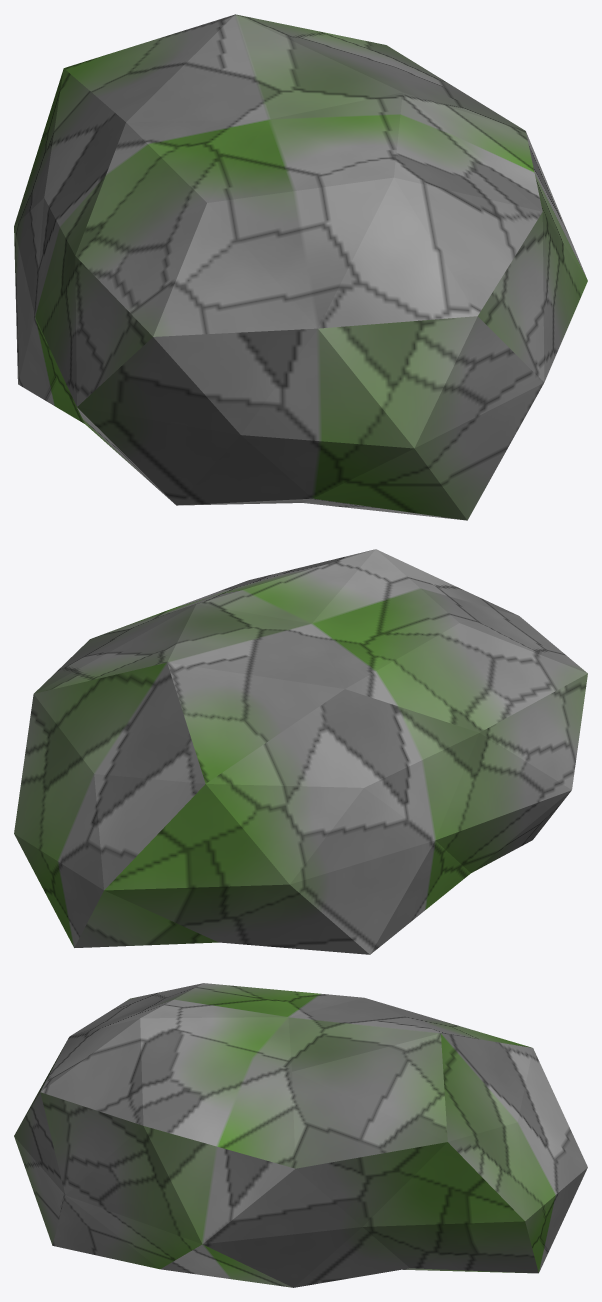
The model's file is Rock_S4.glb.
3 renders of one model, top to bottom at view 1: azimuth 30°, elevation 25°; view 2: azimuth 150°, elevation 25°; view 3: azimuth 270°, elevation 25°, orthographic. The views are drawn at different scales.
Visible parts, largest first — view 1: Rock_S4; view 2: Rock_S4; view 3: Rock_S4.
Boxes of the visible parts, <box> form: Rock_S4: <box>14,14,587,520</box>; Rock_S4: <box>14,549,587,954</box>; Rock_S4: <box>14,983,587,1287</box>.
Bounding box in the file's own units: 0.668 × 0.3789 × 0.8795.
Materials: 1 (1 with a texture image).
